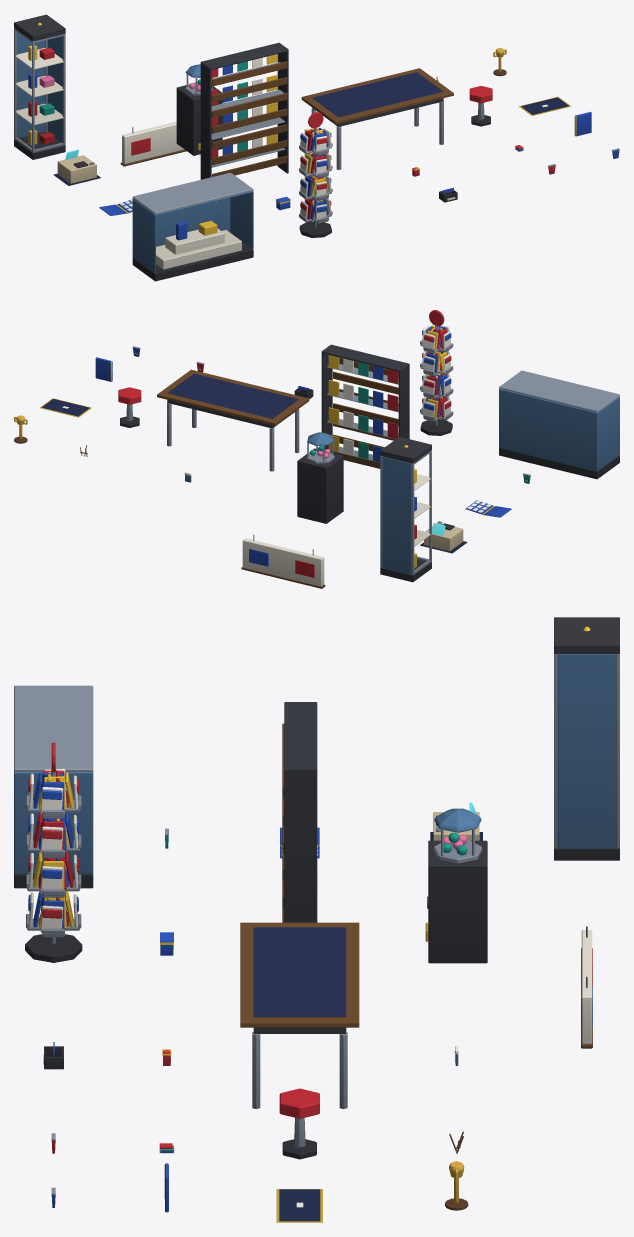
Rendered from pack.glb.
3 renders of one model, top to bottom at view 1: azimuth 30°, elevation 25°; view 2: azimuth 150°, elevation 25°; view 3: azimuth 270°, elevation 25°, orthographic. The views are drawn at different scales.
Parts seen in each view (by area): view 1: glass_counter, slat_wall, display_tower, play_table, spinner_rack, gacha_machine, shop_sign, register_pos, play_stool, playmat, binder_closed; view 2: glass_counter, slat_wall, display_tower, play_table, gacha_machine, spinner_rack, shop_sign, register_pos, play_stool, playmat, binder_open, binder_closed; view 3: display_tower, play_table, glass_counter, spinner_rack, gacha_machine, slat_wall, play_stool, playmat, shop_sign.
Part boxes in pixels (x1=…): glass_counter: x1=132, y1=172, x2=253, y2=281; slat_wall: x1=200, y1=42, x2=288, y2=179; display_tower: x1=14, y1=14, x2=65, y2=159; play_table: x1=301, y1=68, x2=453, y2=169; spinner_rack: x1=299, y1=112, x2=332, y2=237; gacha_machine: x1=176, y1=64, x2=222, y2=155; shop_sign: x1=120, y1=121, x2=186, y2=166; register_pos: x1=53, y1=149, x2=100, y2=185; play_stool: x1=469, y1=86, x2=492, y2=126; playmat: x1=519, y1=97, x2=570, y2=115; binder_closed: x1=574, y1=111, x2=591, y2=136; glass_counter: x1=499, y1=370, x2=619, y2=479; slat_wall: x1=321, y1=344, x2=409, y2=468; display_tower: x1=380, y1=437, x2=431, y2=582; play_table: x1=157, y1=369, x2=309, y2=471; gacha_machine: x1=297, y1=432, x2=343, y2=523; spinner_rack: x1=420, y1=310, x2=453, y2=435; shop_sign: x1=241, y1=534, x2=325, y2=588; register_pos: x1=420, y1=521, x2=467, y2=553; play_stool: x1=118, y1=387, x2=141, y2=427; playmat: x1=40, y1=398, x2=91, y2=417; binder_open: x1=465, y1=500, x2=511, y2=517; binder_closed: x1=95, y1=357, x2=112, y2=381; display_tower: x1=554, y1=617, x2=619, y2=860; play_table: x1=240, y1=922, x2=359, y2=1108; glass_counter: x1=14, y1=685, x2=93, y2=888; spinner_rack: x1=25, y1=742, x2=82, y2=962; gacha_machine: x1=425, y1=808, x2=487, y2=963; slat_wall: x1=282, y1=702, x2=317, y2=922; play_stool: x1=279, y1=1088, x2=319, y2=1159; playmat: x1=276, y1=1189, x2=322, y2=1222; shop_sign: x1=581, y1=926, x2=592, y2=1048.
Size of the model in its own units: 7.47 by 2.36 by 4.58.
2 materials, 2 textured.
